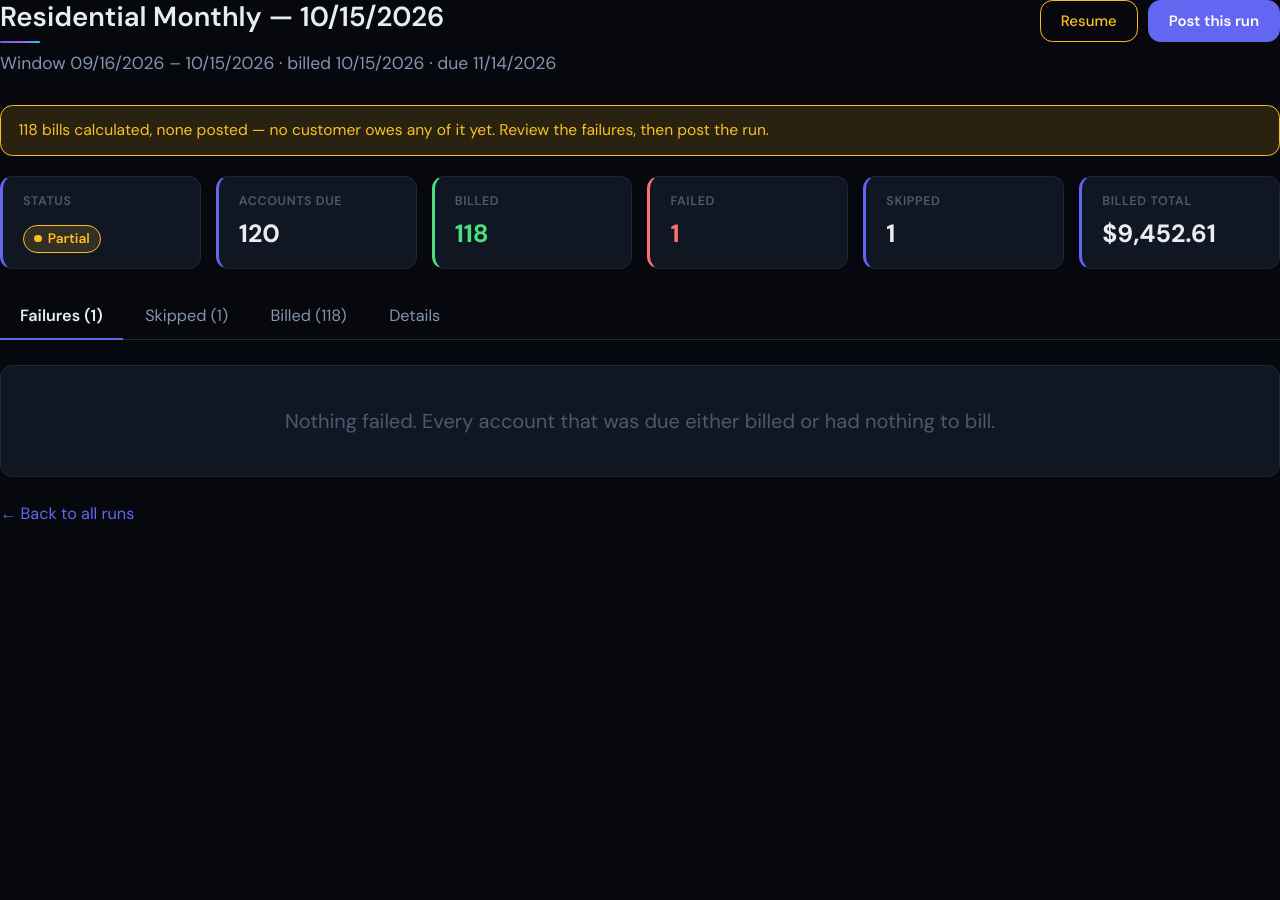
Billing run detail — the posting gate › posts only on confirmation, and says the work was queued
The image size is (1280, 900).
Click the button "Post this run".
click(1214, 21)  # box [1148,0,1279,42]
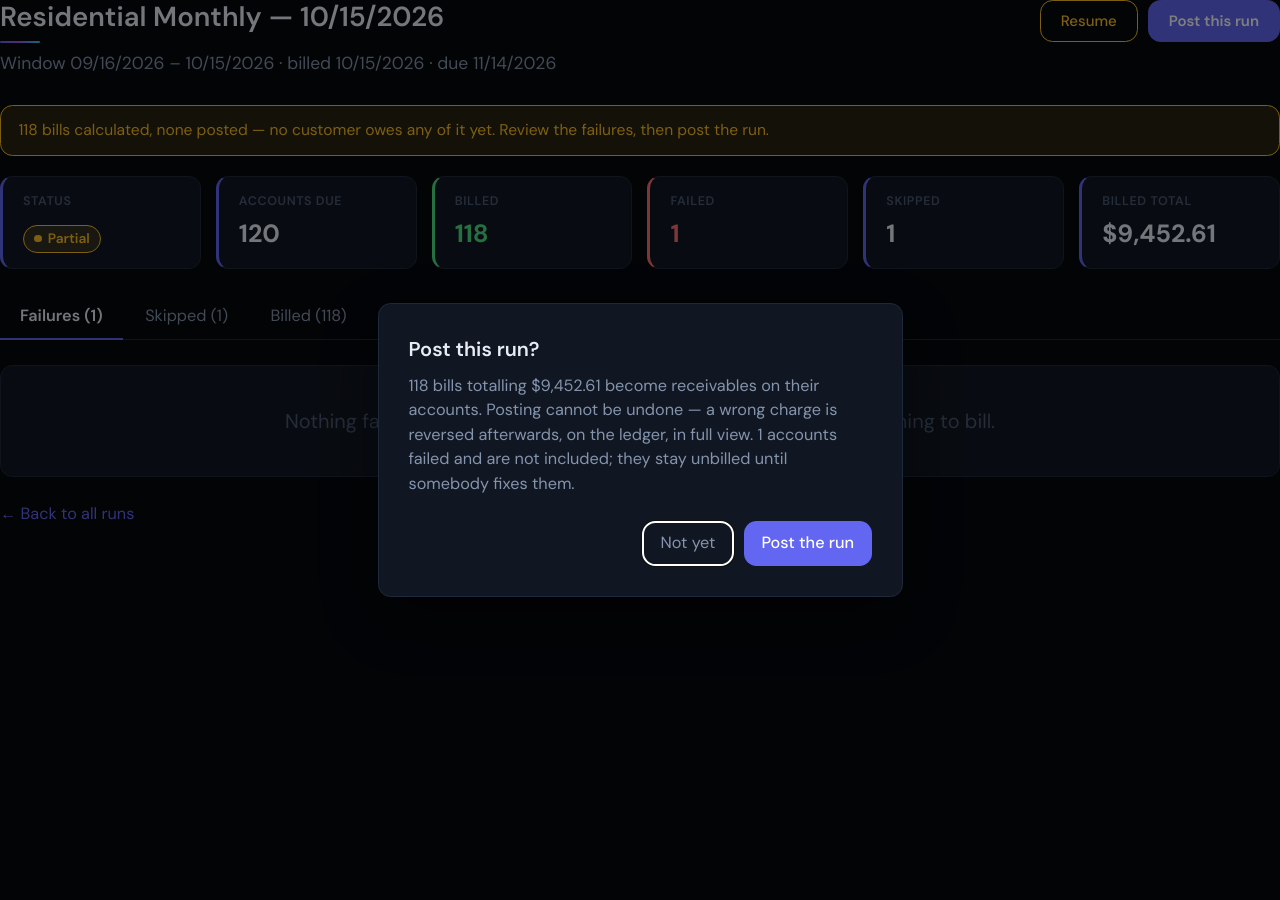
Click the button "Post the run".
click(808, 543)  # box [744,521,872,566]
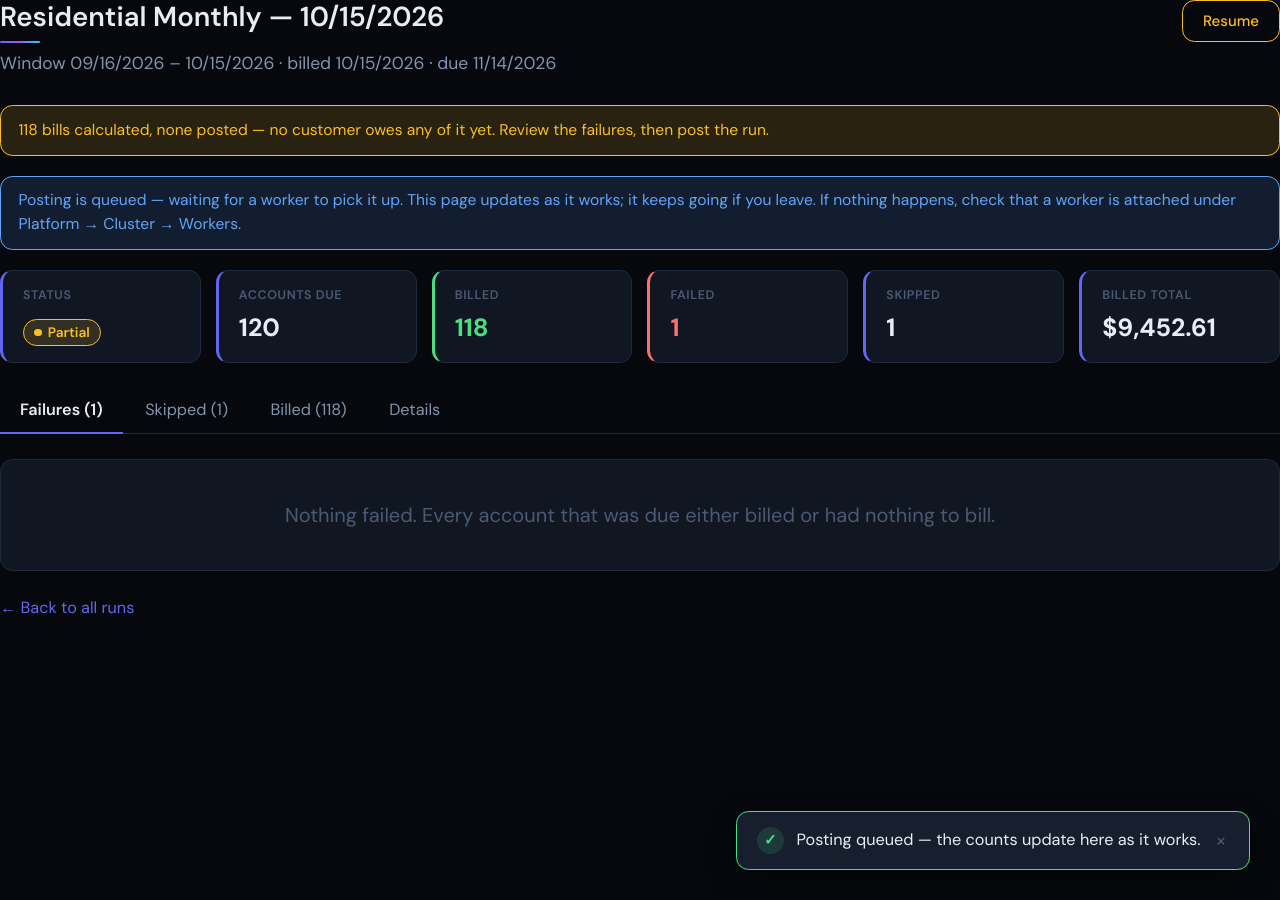
expect the text "Posting queued — the counts update here as it works." is shown: met, box [797,829,1200,852]
